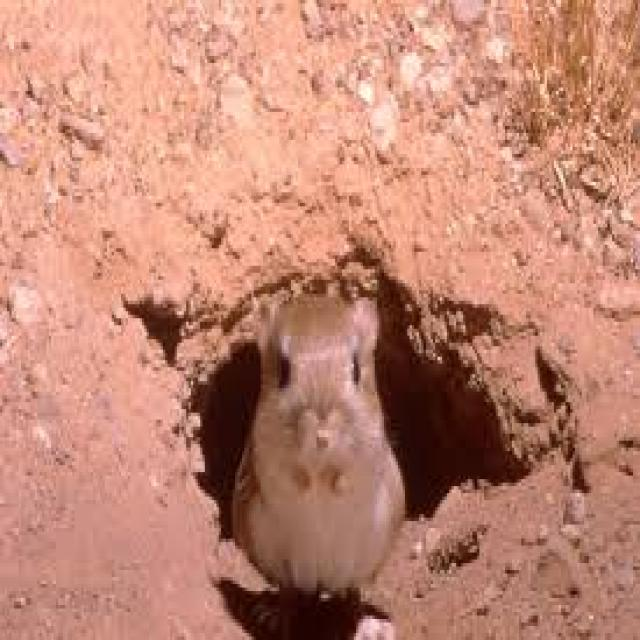rat: (228, 286, 405, 602)
